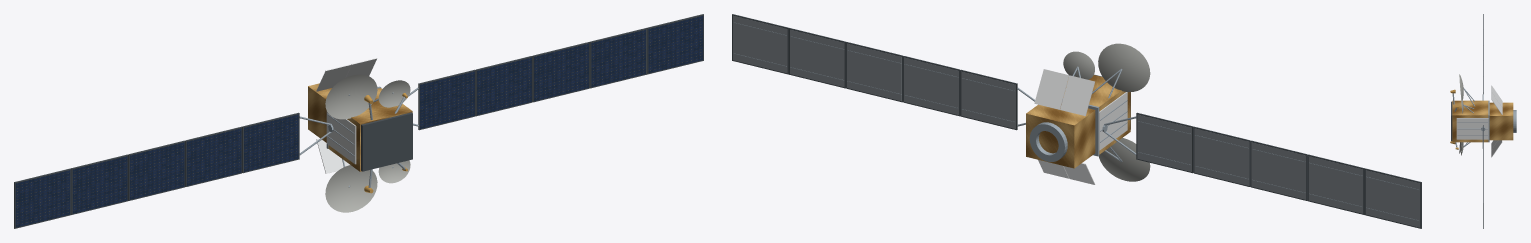
File: ref-eurostar-3000e-42741.glb
3 renders of one model, left to right at view 1: azimuth 30°, elevation 25°; view 2: azimuth 150°, elevation 25°; view 3: azimuth 270°, elevation 25°, orthographic. The views are drawn at different scales.
Parts seen in each view (by area): view 1: Solar cell panel (×10), Communications reflector (×4), Solar panel frame (×9), Earth-facing deck, Deployed radiator leaf (×3), Payload module, Radiator face, Service module; view 2: Rear array substrate (×10), Communications reflector (×3), Solar panel frame (×8), Service module, Deployed radiator leaf (×3), Radiator face, Payload module, Launch adapter ring; view 3: Service module, Payload module, Radiator face, Deployed radiator leaf (×3), Launch adapter ring, Module interface, Communications reflector, Earth-facing deck, Radiator seam.
Part boxes in pixels (x1=…): Solar cell panel (×10): x1=15, y1=15, x2=703, y2=227; Communications reflector (×4): x1=325, y1=74, x2=410, y2=212; Solar panel frame (×9): x1=14, y1=28, x2=646, y2=228; Earth-facing deck: x1=361, y1=112, x2=412, y2=171; Deployed radiator leaf (×3): x1=316, y1=58, x2=377, y2=173; Payload module: x1=328, y1=88, x2=412, y2=171; Radiator face: x1=326, y1=111, x2=356, y2=164; Service module: x1=308, y1=83, x2=331, y2=142; Rear array substrate (×10): x1=733, y1=15, x2=1420, y2=227; Communications reflector (×3): x1=1063, y1=43, x2=1150, y2=181; Solar panel frame (×8): x1=789, y1=28, x2=1421, y2=228; Service module: x1=1026, y1=104, x2=1095, y2=168; Deployed radiator leaf (×3): x1=1034, y1=69, x2=1095, y2=184; Radiator face: x1=1098, y1=92, x2=1127, y2=150; Payload module: x1=1063, y1=75, x2=1130, y2=154; Launch adapter ring: x1=1029, y1=122, x2=1067, y2=161; Service module: x1=1489, y1=102, x2=1513, y2=140; Payload module: x1=1452, y1=100, x2=1488, y2=142; Radiator face: x1=1456, y1=118, x2=1488, y2=139; Deployed radiator leaf (×3): x1=1491, y1=85, x2=1502, y2=157; Launch adapter ring: x1=1513, y1=110, x2=1516, y2=132; Module interface: x1=1488, y1=100, x2=1489, y2=142; Communications reflector: x1=1459, y1=74, x2=1463, y2=99; Earth-facing deck: x1=1451, y1=101, x2=1452, y2=141; Radiator seam: x1=1457, y1=128, x2=1487, y2=129.
Size of the model in its own units: 39.27 by 7.43 by 5.81.
Materials: 8 (2 with a texture image).
